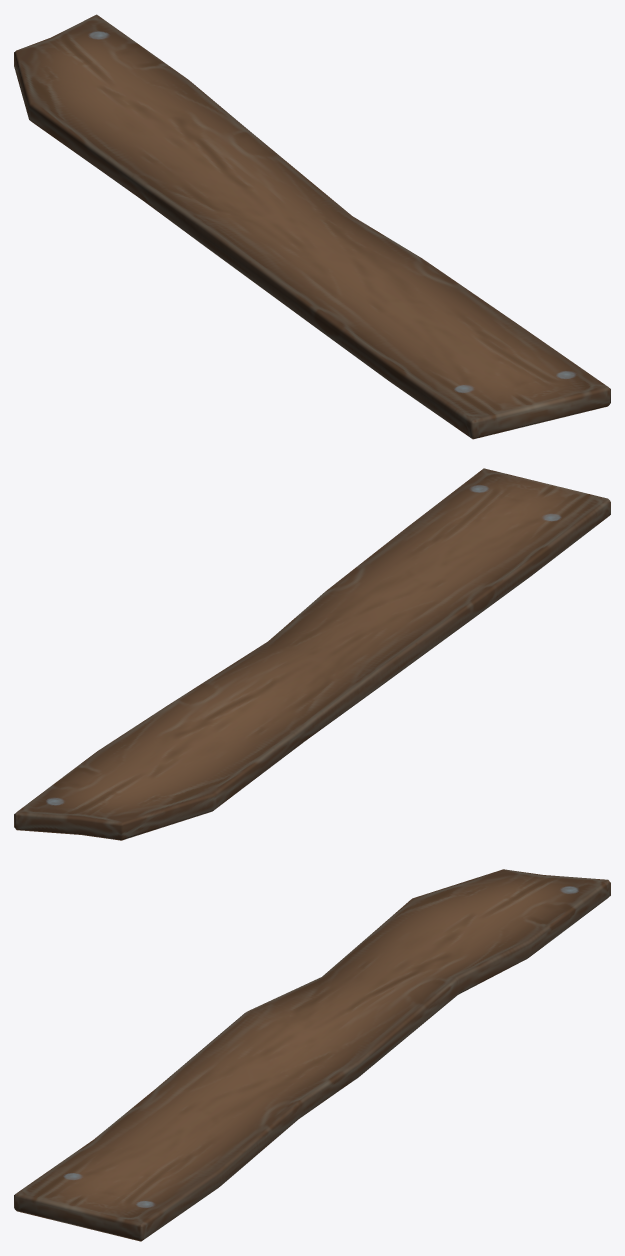
Rendered from Plank_LP.fbx.
3 views of the same model, one above another, from view 1: azimuth 30°, elevation 25°; view 2: azimuth 150°, elevation 25°; view 3: azimuth 330°, elevation 25° (orthographic). The views are drawn at different scales.
Visible parts, largest first — view 1: Planks; view 2: Planks; view 3: Planks.
Boxes of the visible parts, x1,y1,x2,y2 form: Planks: [14, 14, 610, 439]; Planks: [14, 468, 610, 840]; Planks: [14, 869, 610, 1241].
Size of the model in its own units: 5.32 by 1.08 by 31.43.
